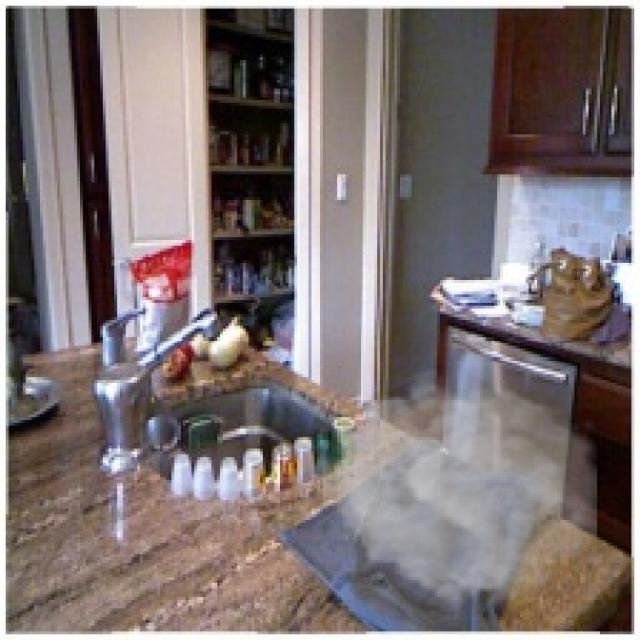smoke: (323, 369, 597, 614)
